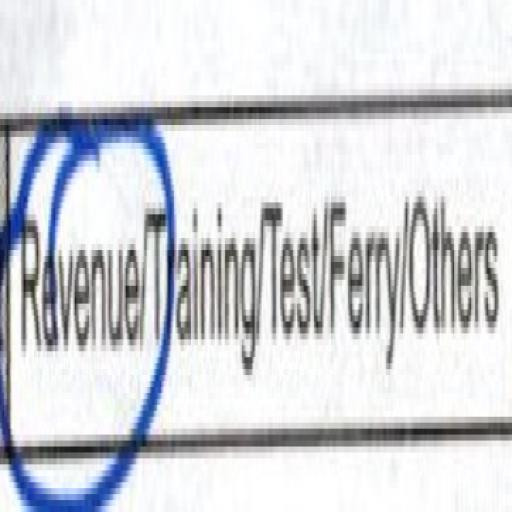check: (0, 39, 152, 512)
